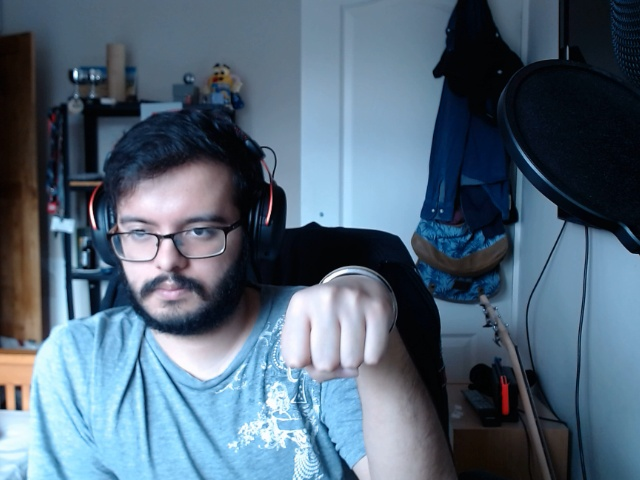Yes: (270, 258, 413, 387)
